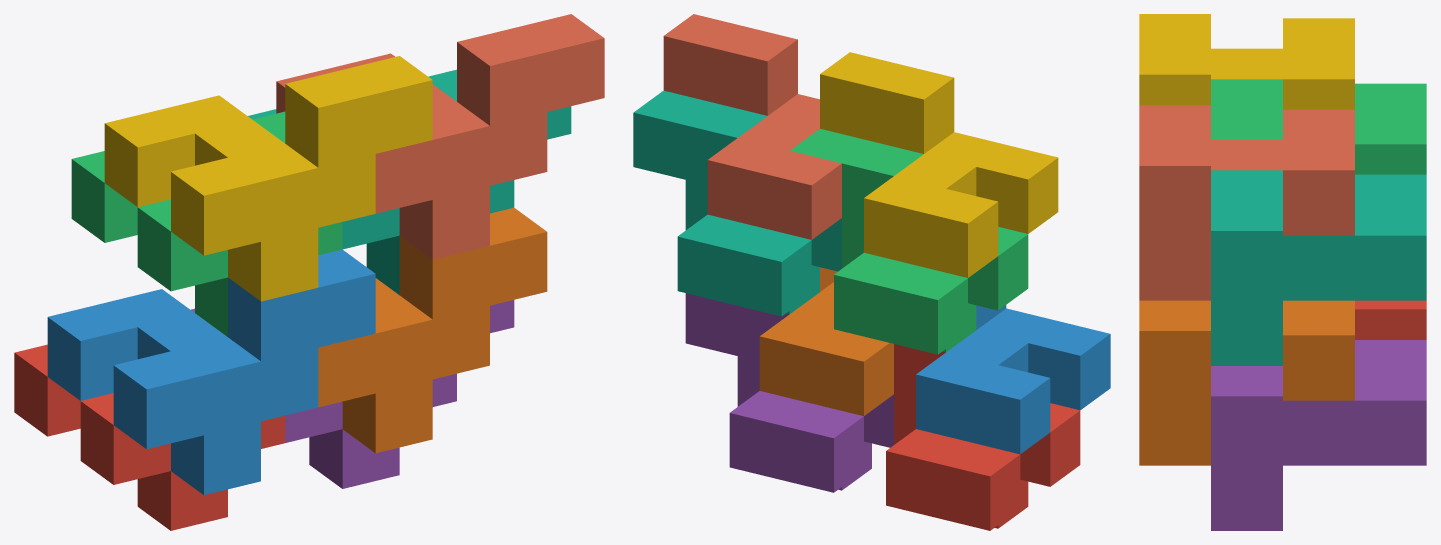
File: tiling.obj
3 views of the same model, side by side, from view 1: azimuth 30°, elevation 25°; view 2: azimuth 150°, elevation 25°; view 3: azimuth 270°, elevation 25° (orthographic). The views are drawn at different scales.
Parts seen in each view (by area): view 1: copy_1_domain_4, copy_1_domain_2, copy_1_domain_8, copy_1_domain_6, copy_1_domain_1, copy_1_domain_3, copy_1_domain_5, copy_1_domain_7; view 2: copy_1_domain_4, copy_1_domain_8, copy_1_domain_7, copy_1_domain_2, copy_1_domain_3, copy_1_domain_5, copy_1_domain_1, copy_1_domain_6; view 3: copy_1_domain_7, copy_1_domain_5, copy_1_domain_8, copy_1_domain_6, copy_1_domain_4, copy_1_domain_3, copy_1_domain_1.
Boxes of the visible parts, x1=… form: copy_1_domain_4: x1=104, y1=56, x2=432, y2=301; copy_1_domain_2: x1=47, y1=249, x2=375, y2=494; copy_1_domain_8: x1=276, y1=14, x2=604, y2=259; copy_1_domain_6: x1=318, y1=207, x2=547, y2=453; copy_1_domain_1: x1=14, y1=344, x2=285, y2=530; copy_1_domain_3: x1=71, y1=111, x2=342, y2=336; copy_1_domain_5: x1=190, y1=300, x2=514, y2=488; copy_1_domain_7: x1=248, y1=69, x2=571, y2=294; copy_1_domain_4: x1=820, y1=52, x2=1058, y2=277; copy_1_domain_8: x1=663, y1=14, x2=841, y2=239; copy_1_domain_7: x1=633, y1=90, x2=841, y2=316; copy_1_domain_2: x1=916, y1=305, x2=1110, y2=454; copy_1_domain_3: x1=790, y1=129, x2=1028, y2=354; copy_1_domain_5: x1=685, y1=293, x2=893, y2=492; copy_1_domain_1: x1=886, y1=344, x2=1080, y2=530; copy_1_domain_6: x1=759, y1=267, x2=893, y2=416; copy_1_domain_7: x1=1211, y1=170, x2=1426, y2=365; copy_1_domain_5: x1=1211, y1=340, x2=1426, y2=530; copy_1_domain_8: x1=1139, y1=105, x2=1354, y2=300; copy_1_domain_6: x1=1139, y1=300, x2=1354, y2=465; copy_1_domain_4: x1=1139, y1=14, x2=1354, y2=109; copy_1_domain_3: x1=1211, y1=79, x2=1426, y2=174; copy_1_domain_1: x1=1355, y1=300, x2=1426, y2=339.
Bounding box in the file's own units: 8 × 7 × 4.
